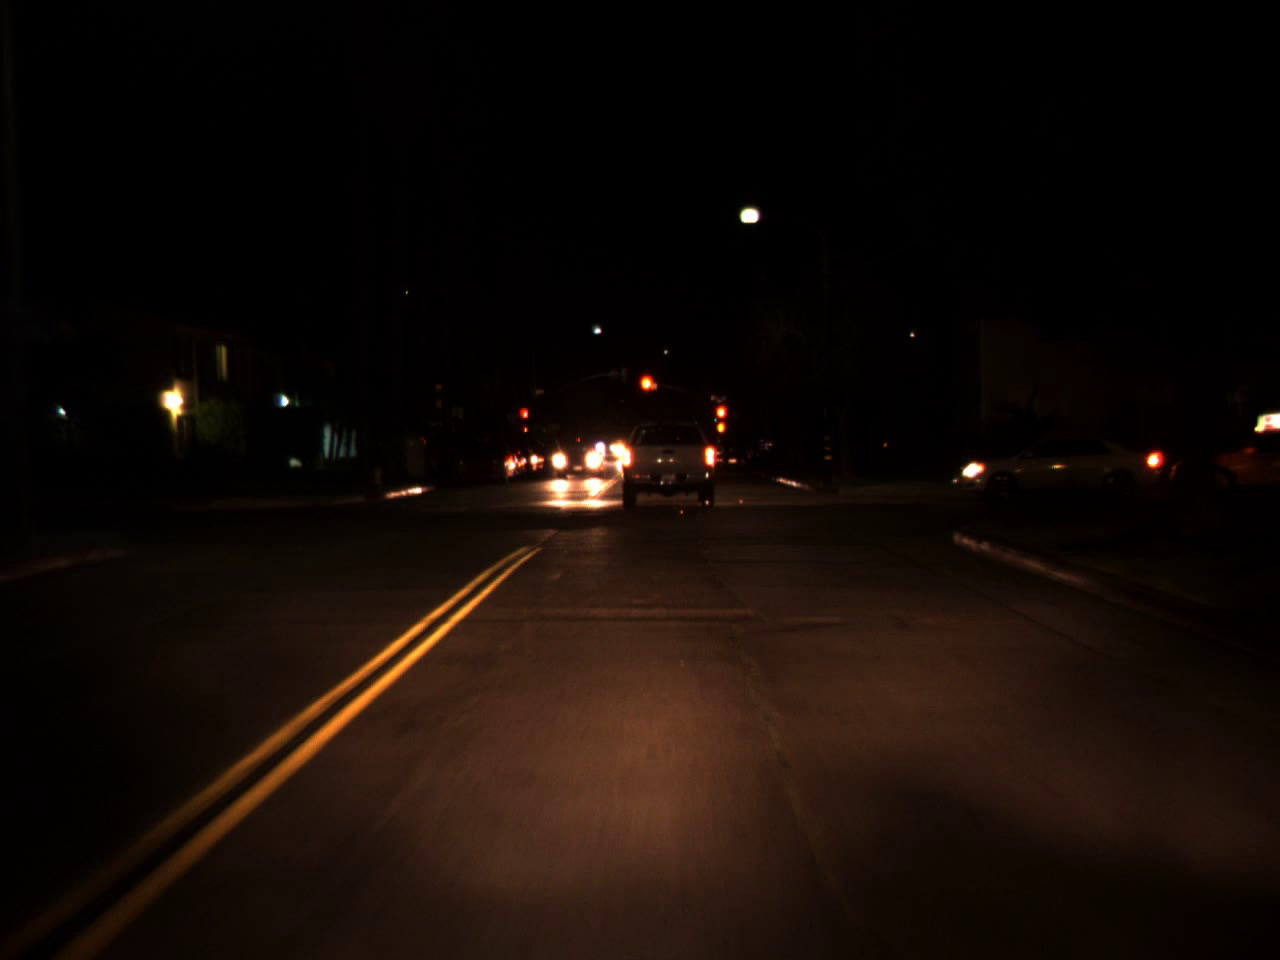stop: (637, 372, 659, 409), (714, 404, 727, 433), (519, 408, 529, 429)
